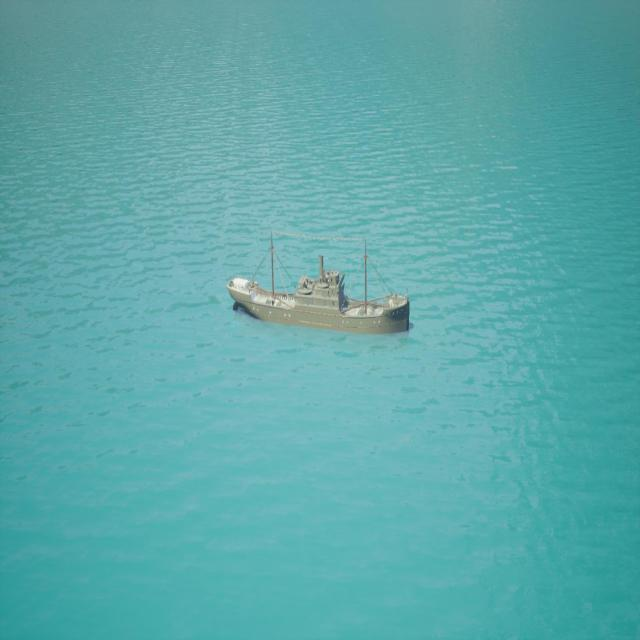fishing ship: (229, 234, 412, 339)
